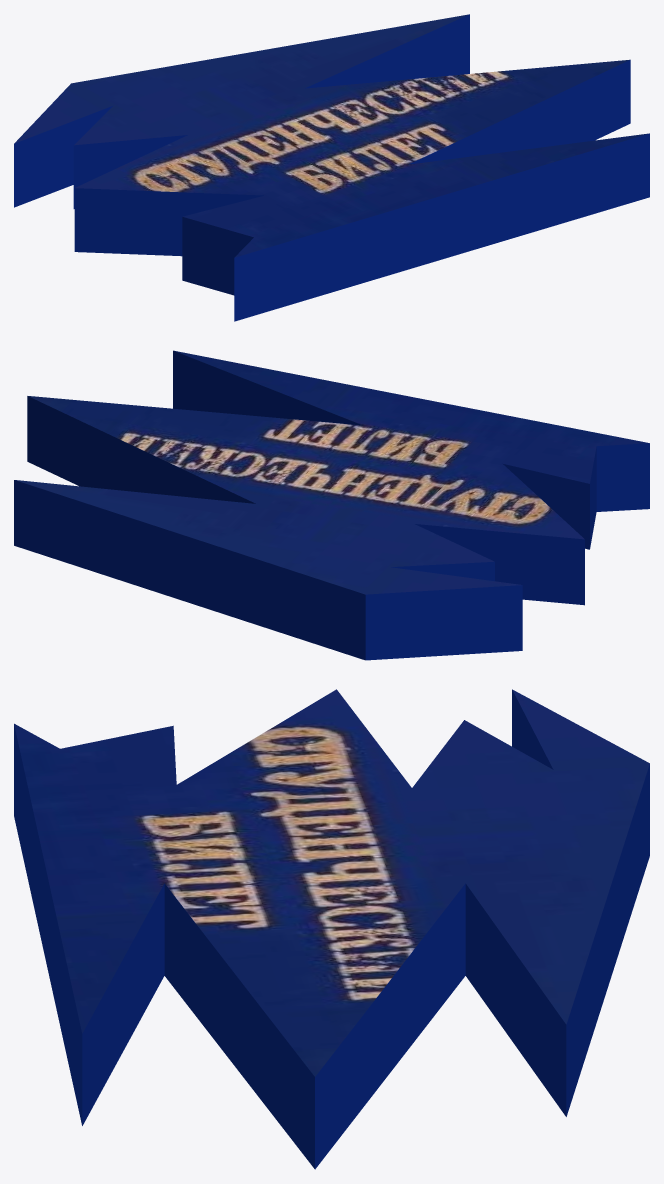
Rendered from студак.fbx.
The picture shows the model from 3 angles, top to bottom: view 1: azimuth 30°, elevation 25°; view 2: azimuth 150°, elevation 25°; view 3: azimuth 270°, elevation 25°; orthographic projection. The views are drawn at different scales.
Parts seen in each view (by area): view 1: Cube; view 2: Cube; view 3: Cube.
Boxes of the visible parts, <box> form: Cube: <box>14,14,649,321</box>; Cube: <box>14,350,649,660</box>; Cube: <box>14,689,649,1169</box>.
Size of the model in its own units: 484 by 53.87 by 335.
2 materials, 1 textured.
